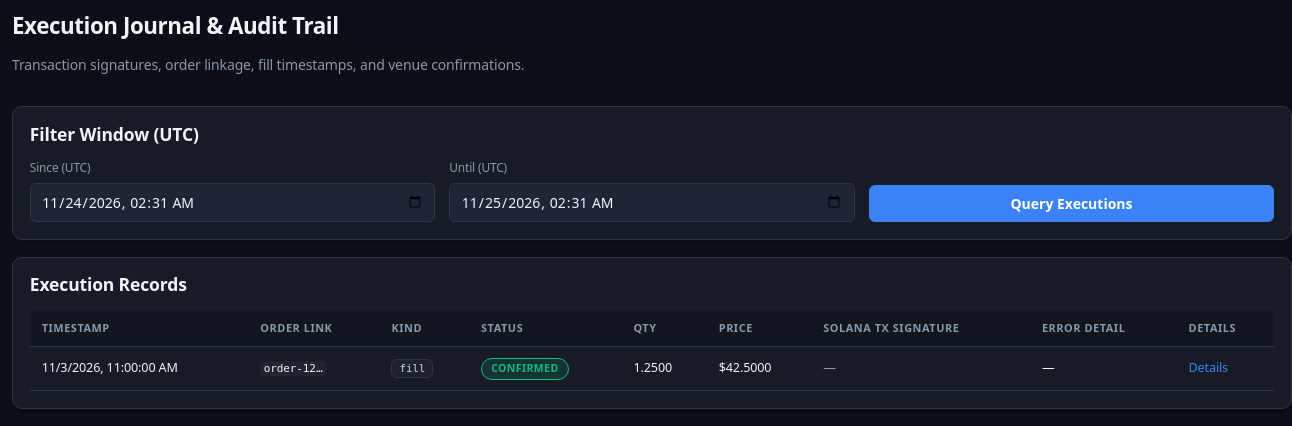
Scenario: execution journal UTC window › rejects an invalid UTC range without making another request
Replace the text in the field labelled "Since (UTC)" with "2026-11-03T10:00": (233, 202) x1=30 y1=183 x2=435 y2=222
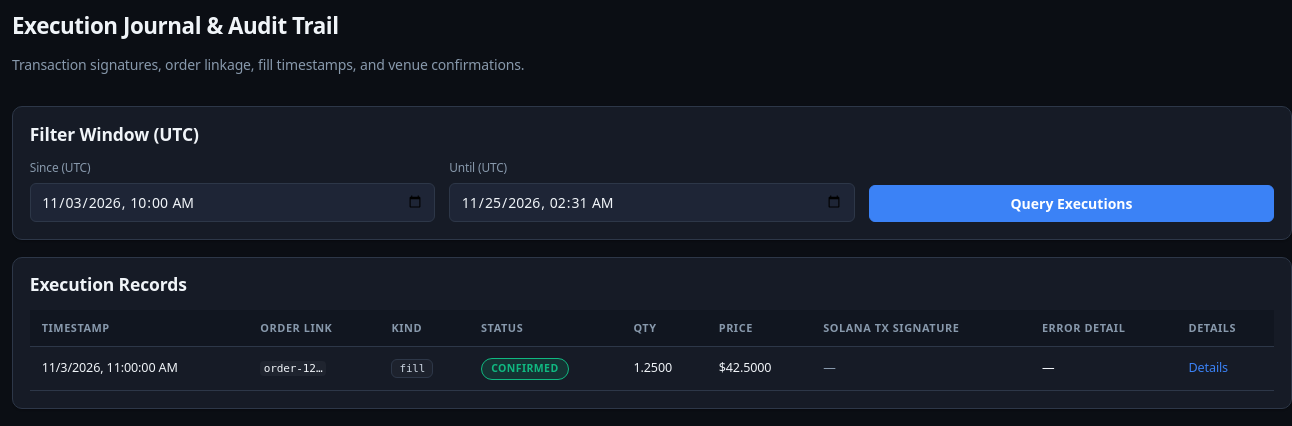
Replace the text in the field labelled "Until (UTC)" with "2026-11-03T09:00": (652, 202) x1=449 y1=183 x2=855 y2=222
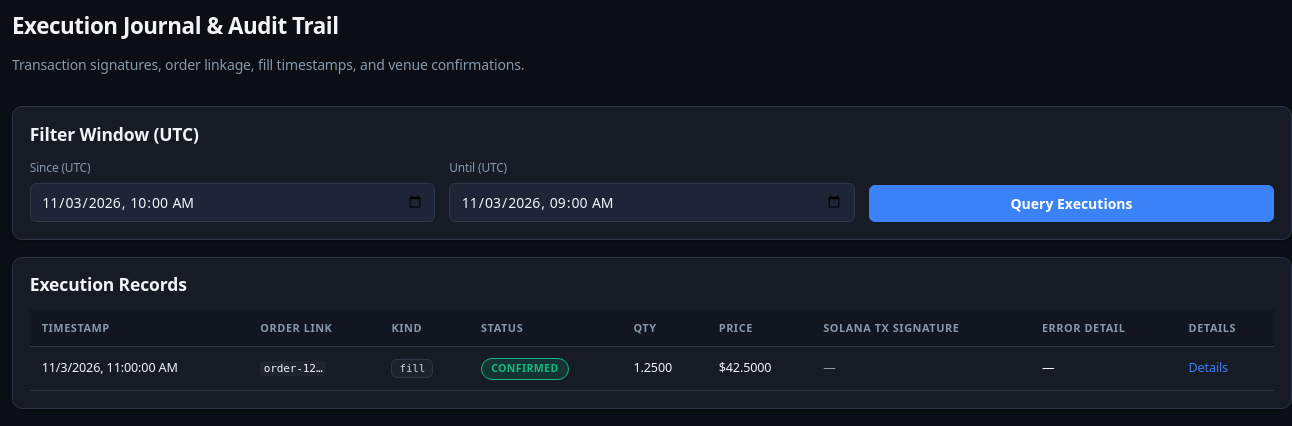
Click the button "Query Executions": (1071, 203) x1=869 y1=185 x2=1274 y2=222
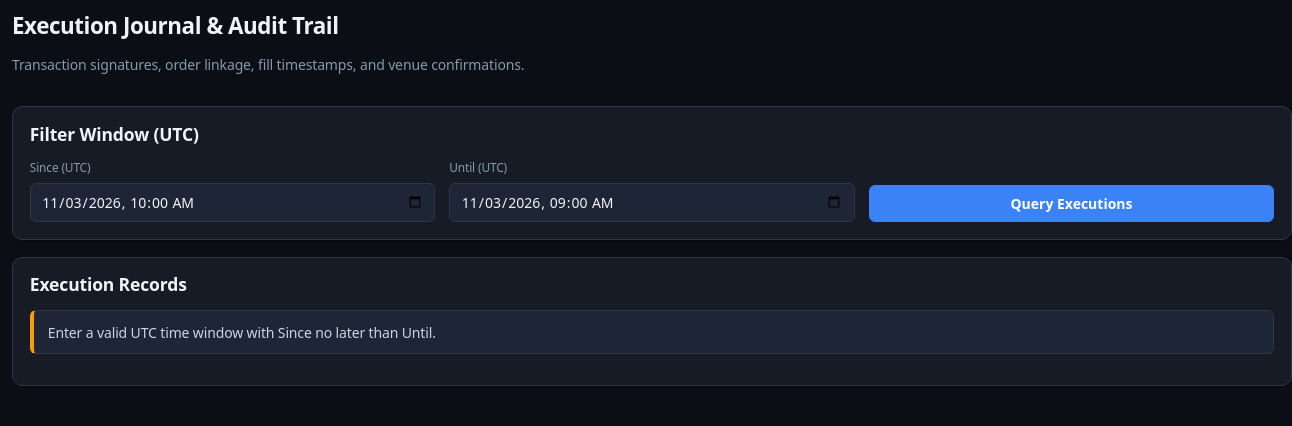
Expected: the text "Enter a valid UTC time window with Since no later than Until." is shown, x1=30 y1=310 x2=1274 y2=354
